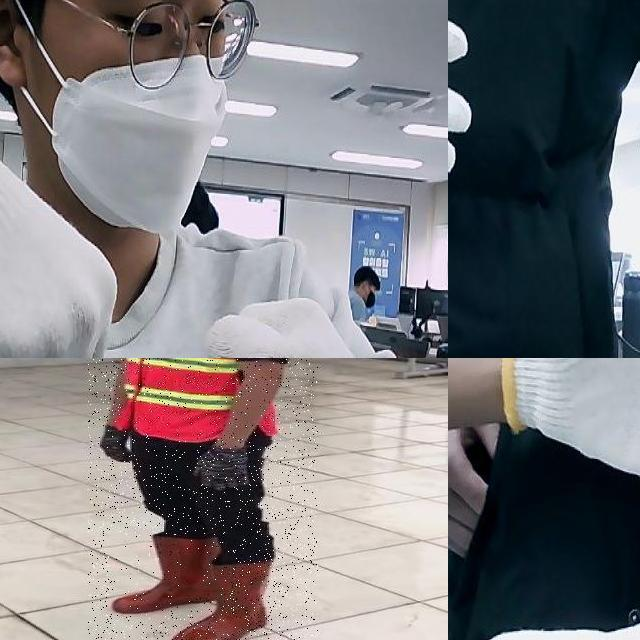BOOTS: (109, 536, 221, 615), (175, 558, 271, 640)
GLOVE: (0, 114, 119, 358), (501, 358, 640, 538), (198, 297, 431, 358), (193, 440, 251, 492), (97, 423, 136, 461)
VEST: (120, 358, 298, 440)
